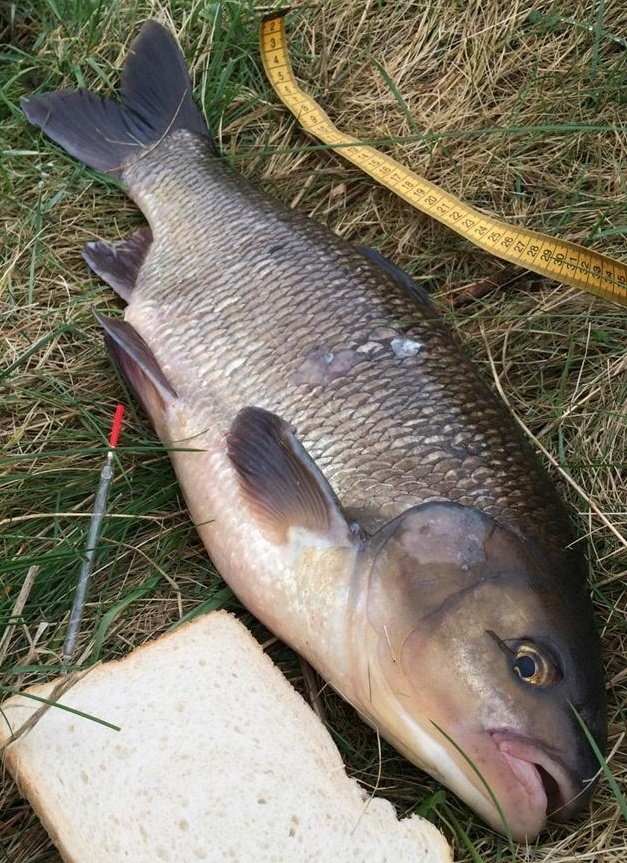Leuciscus idus: (20, 20, 607, 843)
